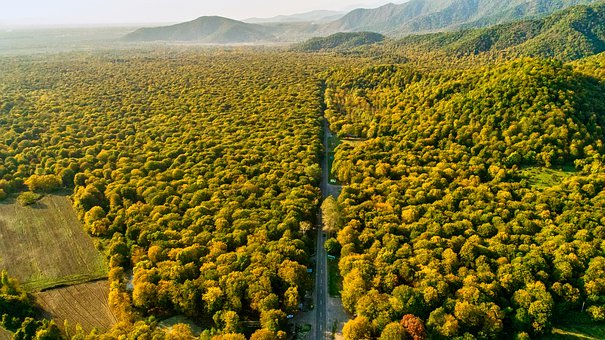forest: (1, 39, 593, 335)
